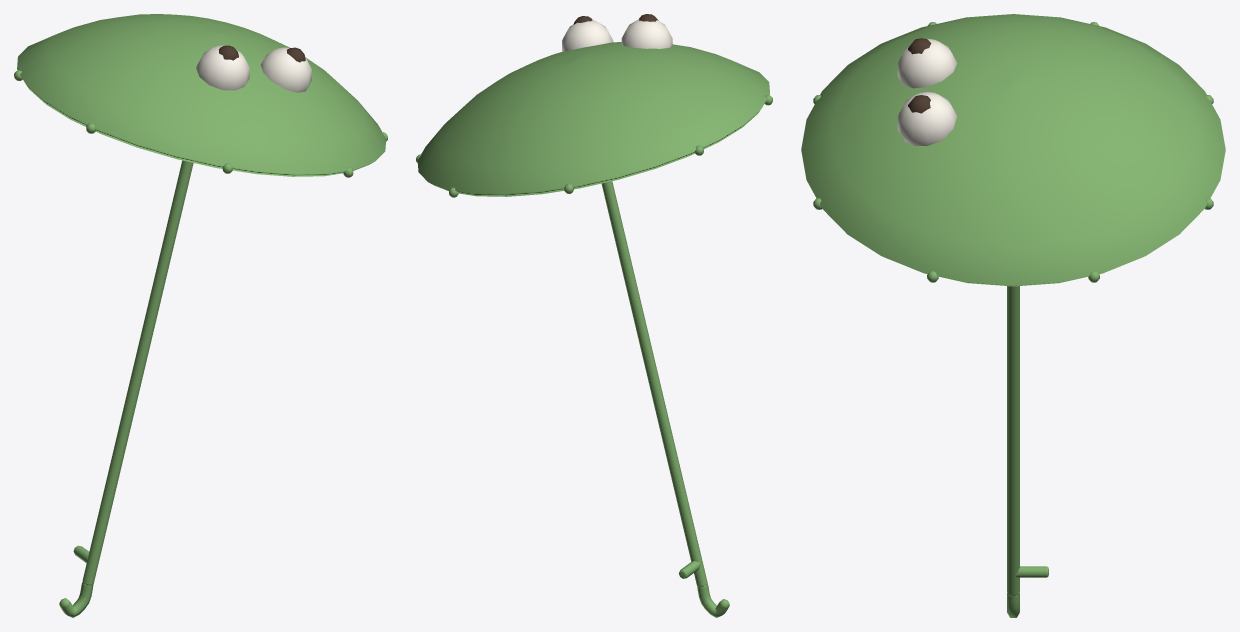
The model's file is frog_umbrella.glb.
The picture shows the model from 3 angles, left to right: view 1: azimuth 30°, elevation 25°; view 2: azimuth 150°, elevation 25°; view 3: azimuth 270°, elevation 25°; orthographic projection. The views are drawn at different scales.
Visible parts, largest first — view 1: frog_umbrella_ArmR; view 2: frog_umbrella_ArmR; view 3: frog_umbrella_ArmR.
Boxes of the visible parts, x1=… form: frog_umbrella_ArmR: x1=14, y1=14, x2=387, y2=617; frog_umbrella_ArmR: x1=416, y1=14, x2=772, y2=617; frog_umbrella_ArmR: x1=801, y1=14, x2=1225, y2=617.
Size of the model in its own units: 0.8703 by 1.5 by 0.9.
